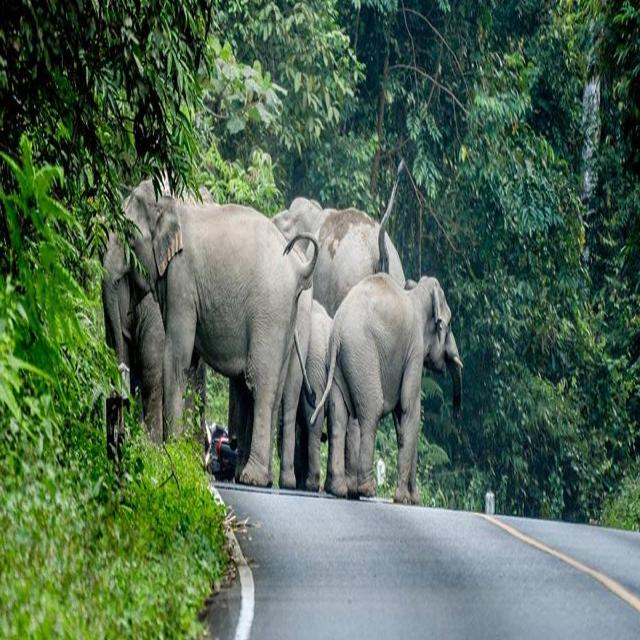Elephant: (88, 144, 296, 518), (255, 153, 412, 490), (320, 265, 487, 512)
